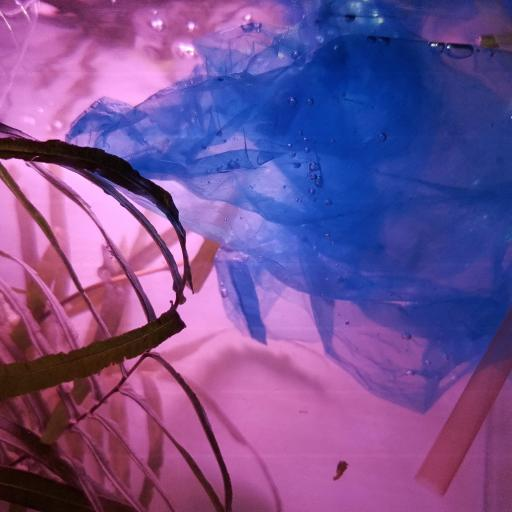plastic_bag: (64, 0, 511, 417)
plastic_straw: (410, 303, 512, 496)
